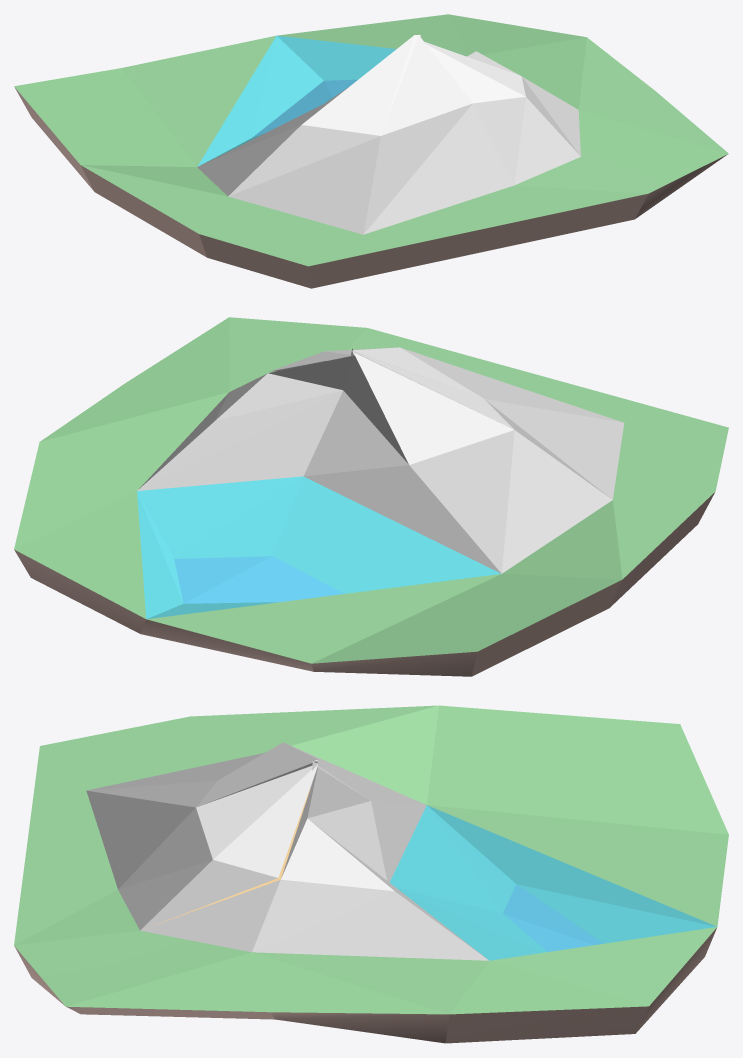
The model's file is Island.fbx.
The picture shows the model from 3 angles, top to bottom: view 1: azimuth 30°, elevation 25°; view 2: azimuth 150°, elevation 25°; view 3: azimuth 270°, elevation 25°; orthographic projection. The views are drawn at different scales.
Parts seen in each view (by area): view 1: PolyShape Ile 003, PolyShape Ile 003.001; view 2: PolyShape Ile 003, PolyShape Ile 003.001; view 3: PolyShape Ile 003, PolyShape Ile 003.001.
Boxes of the visible parts, left/top/right/bottom form: PolyShape Ile 003: left=14, top=14, right=728, bottom=288; PolyShape Ile 003.001: left=197, top=35, right=580, bottom=234; PolyShape Ile 003: left=14, top=317, right=728, bottom=676; PolyShape Ile 003.001: left=137, top=347, right=624, bottom=573; PolyShape Ile 003: left=14, top=705, right=728, bottom=1043; PolyShape Ile 003.001: left=86, top=742, right=488, bottom=960.
Bounding box in the file's own units: 76.78 × 27.8 × 75.09.
